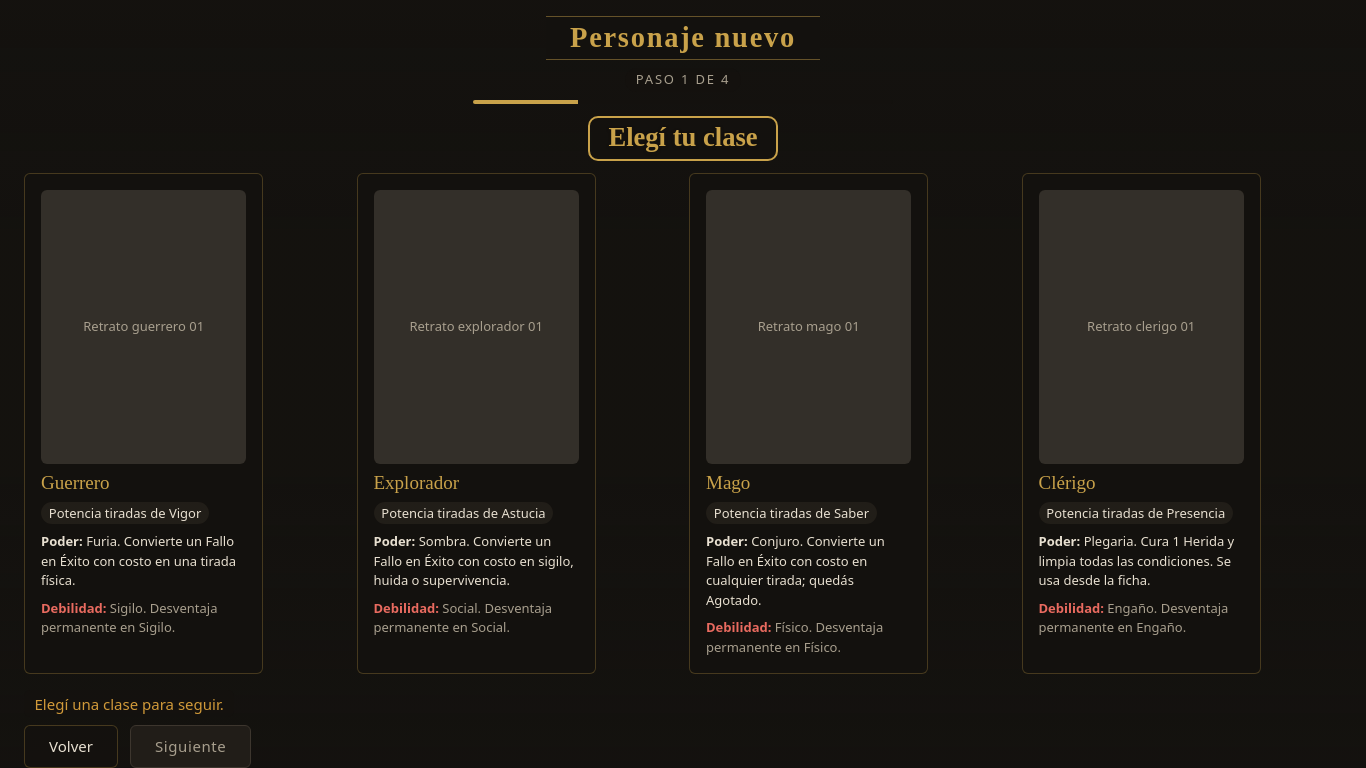
Test: CreacionScreen · los cinco bugs medidos › el id del archivo del retrato no es texto visible para el jugador
What coordinates should you click on to do the following:
click the button with test id "clase-clerigo"
I would click on:
 (1141, 424)
Its box is [1022,173,1261,674].
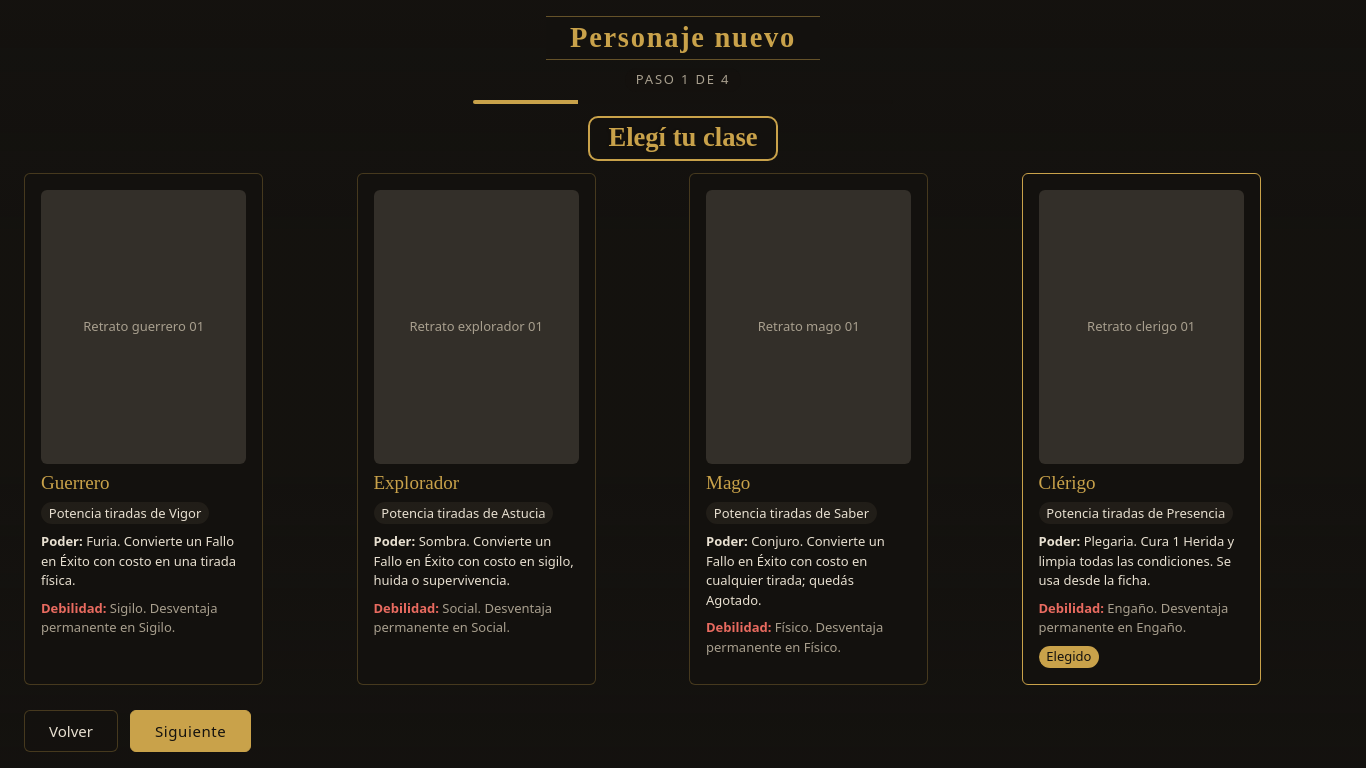
What coordinates should you click on to do the following:
click the button with test id "siguiente"
I would click on:
 (191, 731)
Its box is [130,710,251,752].
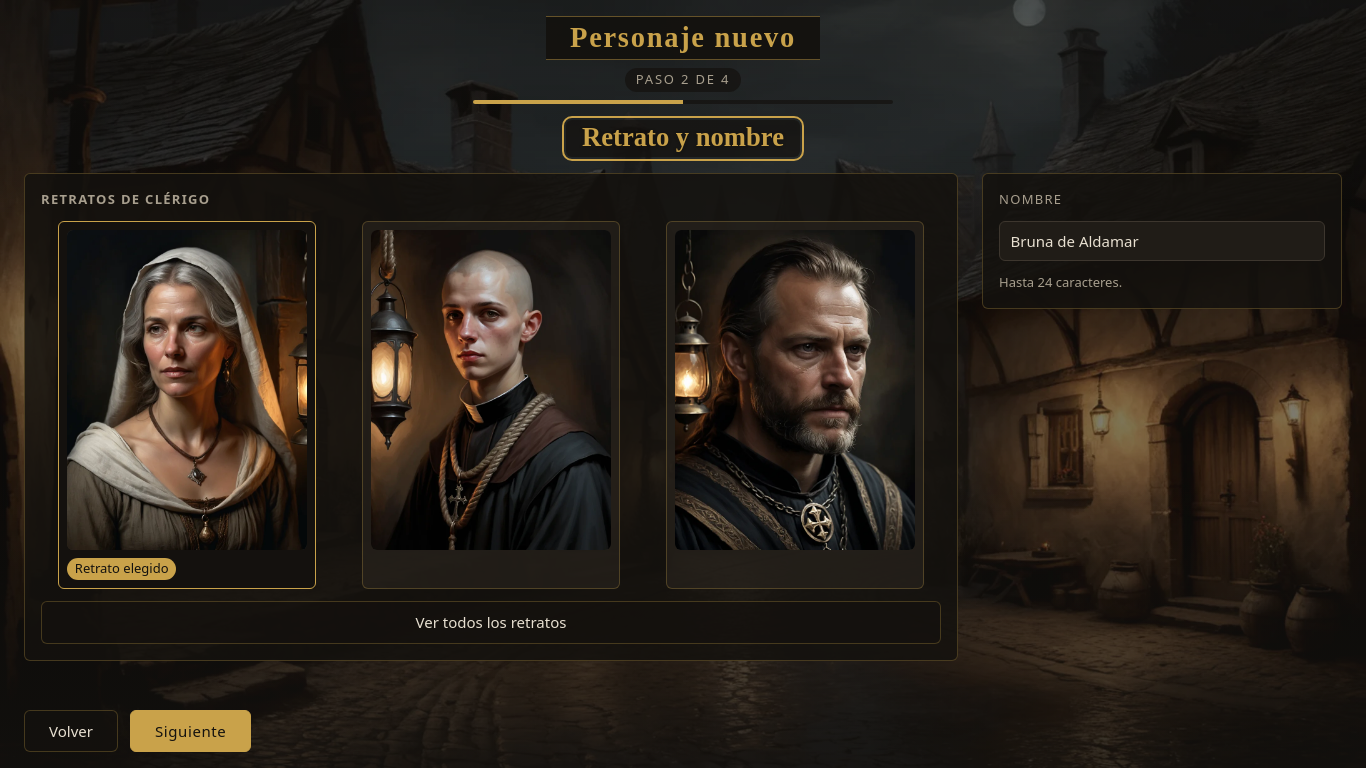
expect the picture with alt text "Retrato clerigo 01" is shown: met, box [67,230,307,550]
expect the button "Retrato guerrero 01" is gone: met
expect the button named "Retrato clerigo 01" is shown: met, box [58,221,316,589]
